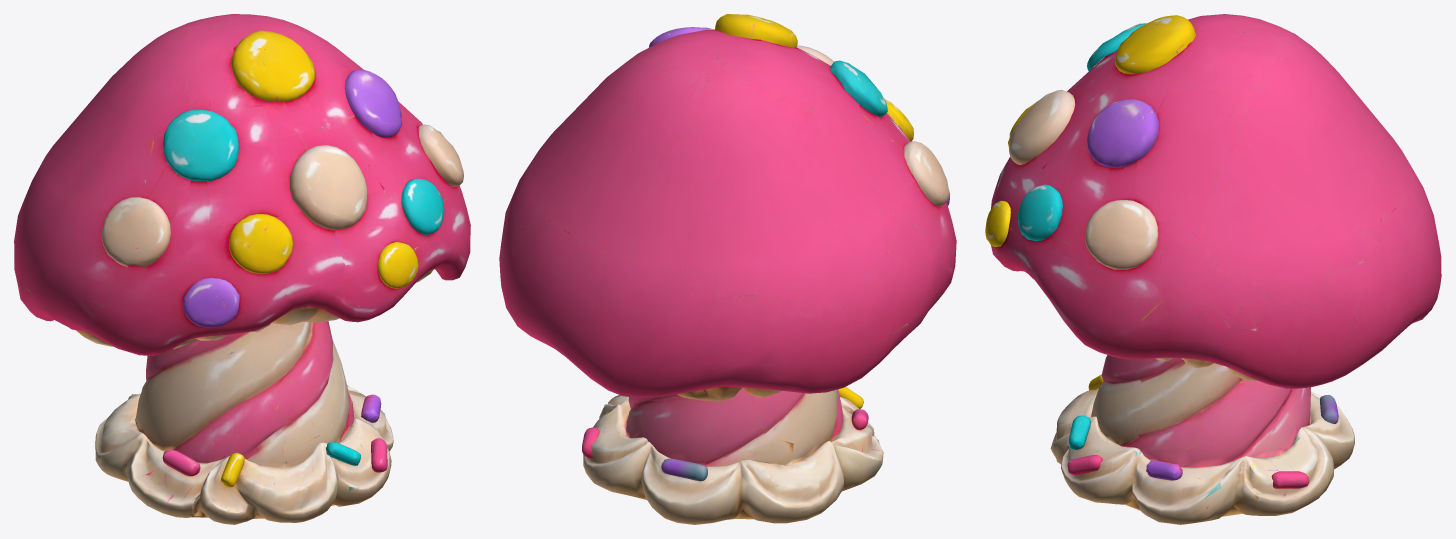
File: candy_mushroom.glb
3 views of the same model, side by side, from view 1: azimuth 30°, elevation 25°; view 2: azimuth 150°, elevation 25°; view 3: azimuth 270°, elevation 25° (orthographic).
Size of what is drawn, in the model's own units: 0.9353 by 1 by 0.9236.
Materials: 1 (1 with a texture image).
